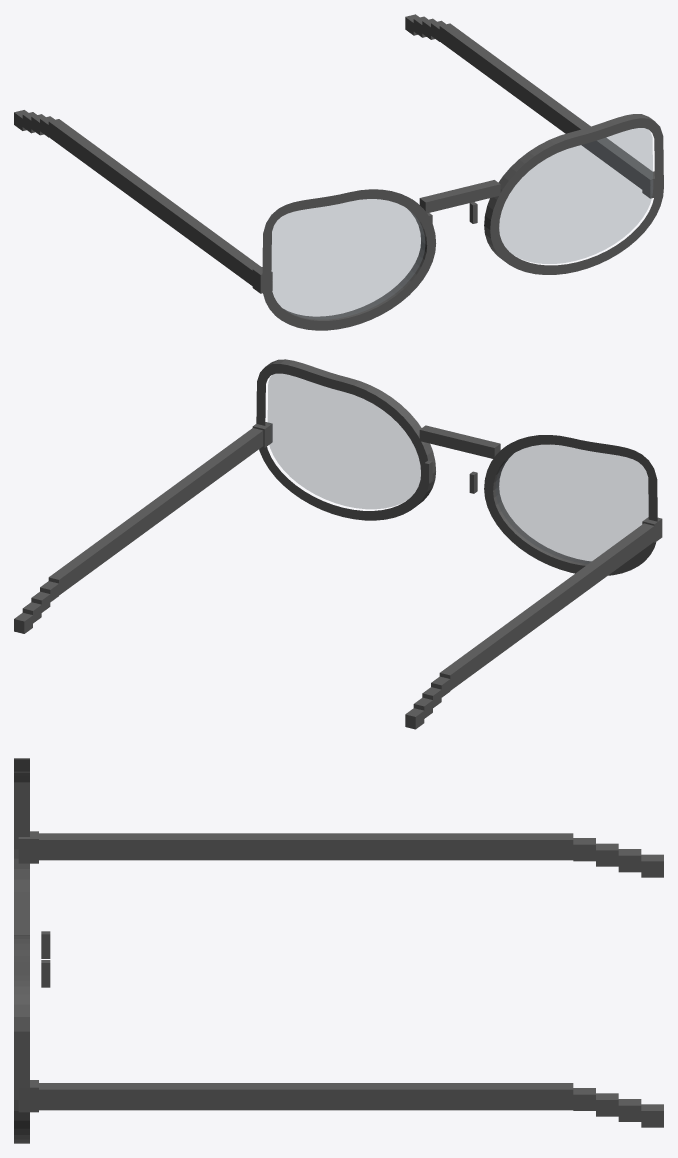
Rendered from p-cateye.glb.
The picture shows the model from 3 angles, top to bottom: view 1: azimuth 30°, elevation 25°; view 2: azimuth 150°, elevation 25°; view 3: azimuth 270°, elevation 25°; orthographic projection. The views are drawn at different scales.
Visible parts, largest first — view 1: Lens, Frame; view 2: Lens, Frame; view 3: Frame.
Boxes of the visible parts, <box> form: Lens: <box>271,128,652,319</box>; Frame: <box>14,14,663,330</box>; Lens: <box>268,374,648,563</box>; Frame: <box>14,359,662,729</box>; Frame: <box>14,758,663,1143</box>.
Size of the model in its own units: 134 by 44.14 by 144.
